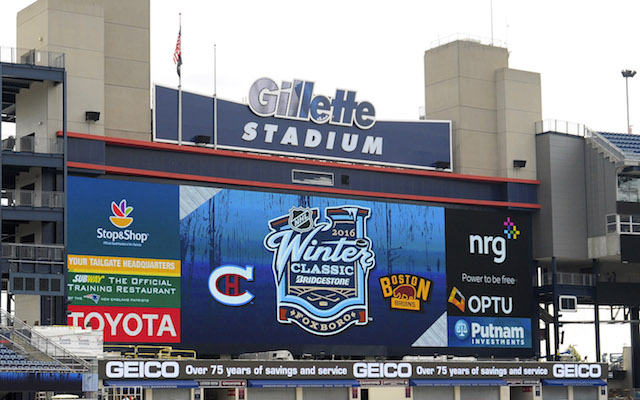Geico: (106, 358, 604, 382)
